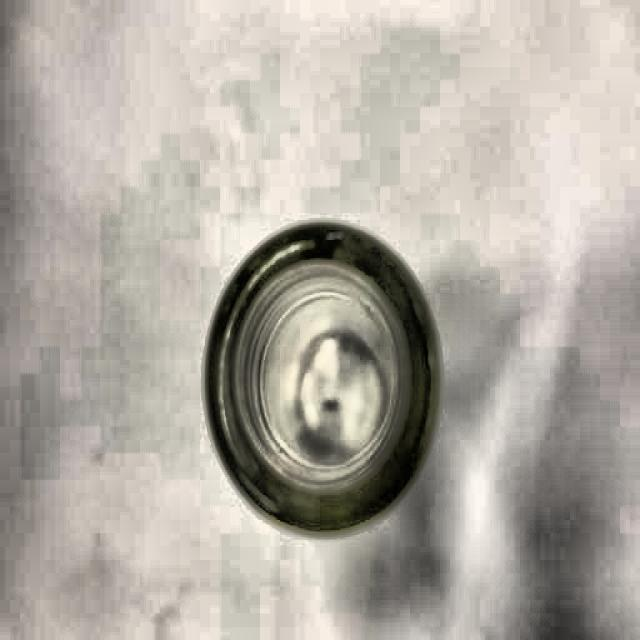glass: (201, 214, 453, 540)
